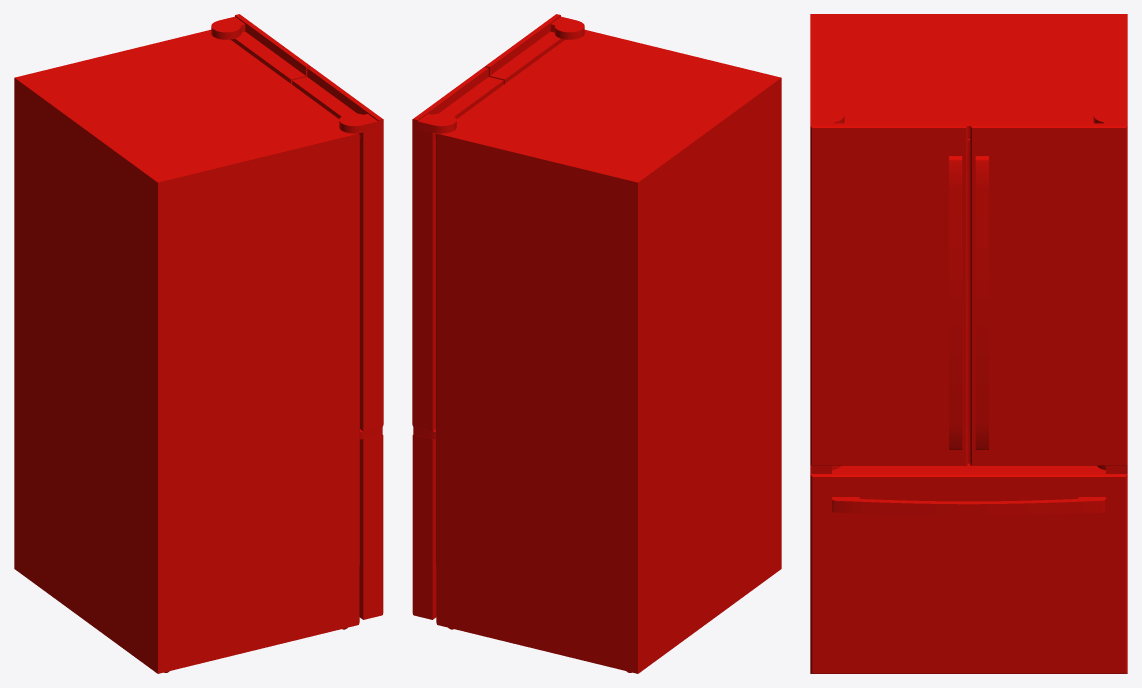
The model's file is Fridge.fbx.
3 views of the same model, side by side, from view 1: azimuth 30°, elevation 25°; view 2: azimuth 150°, elevation 25°; view 3: azimuth 270°, elevation 25° (orthographic). The views are drawn at different scales.
Visible parts, largest first — view 1: Cube; view 2: Cube; view 3: Cube.
Boxes of the visible parts, x1=… form: Cube: x1=14, y1=14, x2=383, y2=673; Cube: x1=412, y1=14, x2=781, y2=673; Cube: x1=810, y1=14, x2=1127, y2=673.
Size of the model in its own units: 249 by 502 by 258.
